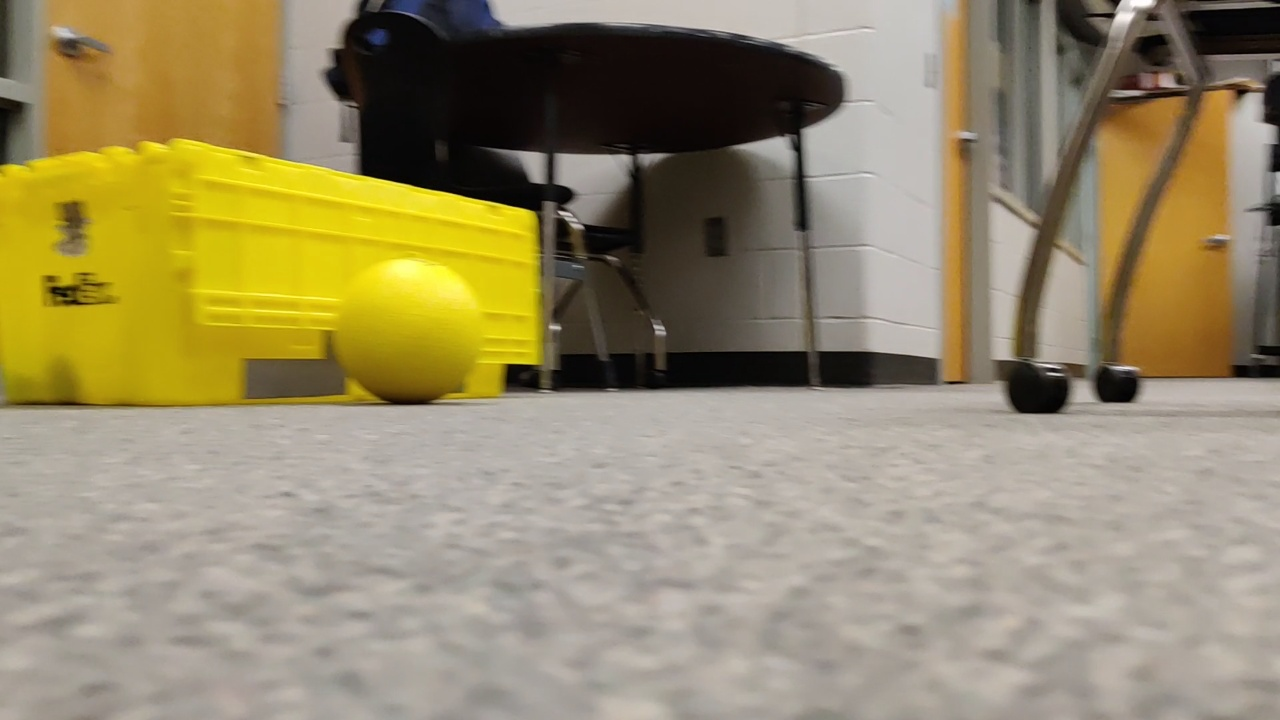Ball: (341, 254, 482, 417)
